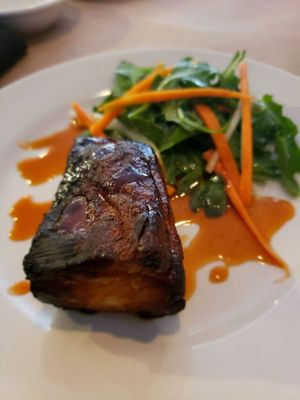curry: (251, 93, 300, 199)
sushi: (0, 0, 75, 35)
